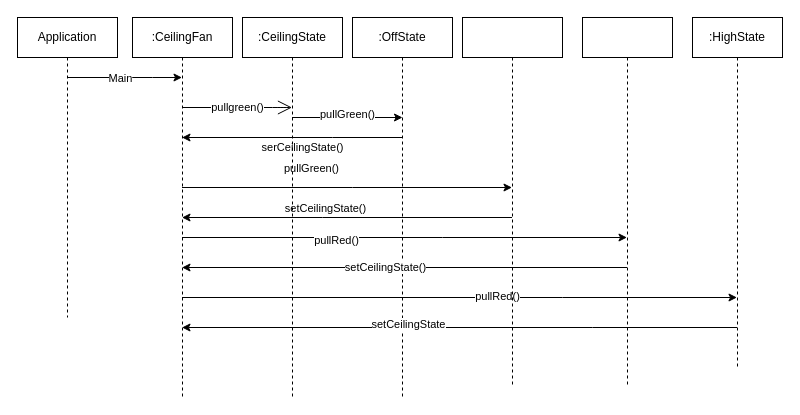
Some shapes in this 800 by 415 pixel diagram are drawn without their labels. The box of each missing label's shape, as (x1, y1, x2, y2) in pixels:
:LowState: (462, 16, 562, 388)
MediumState: (582, 16, 672, 388)
